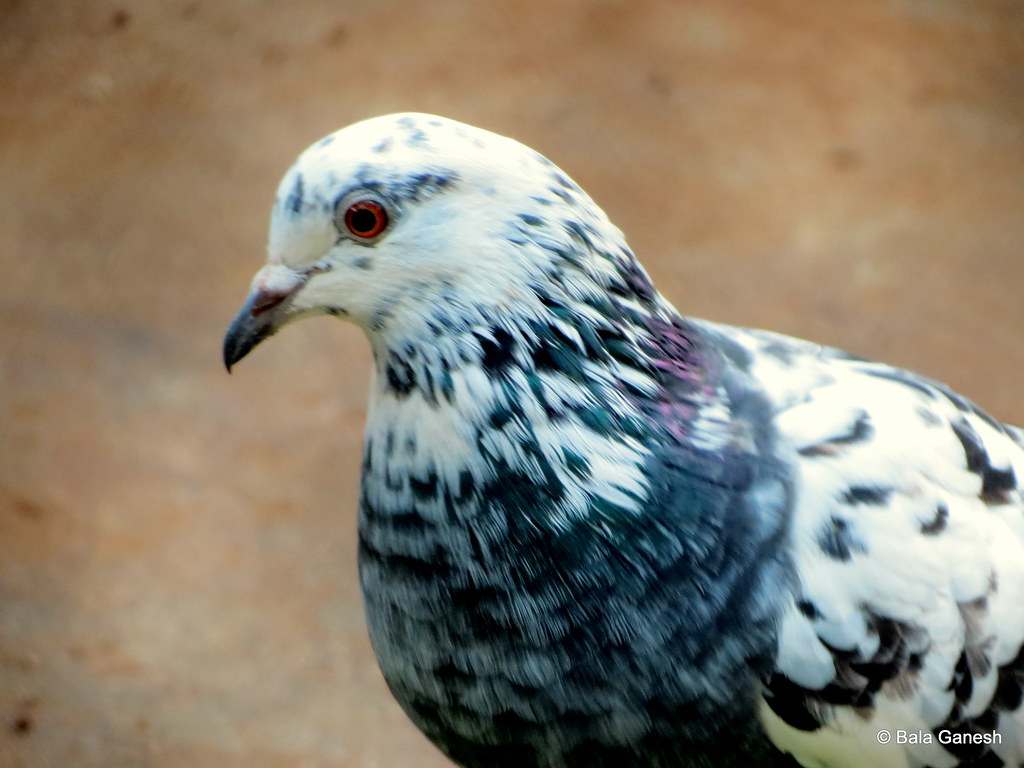pigeon: (215, 107, 1024, 768)
